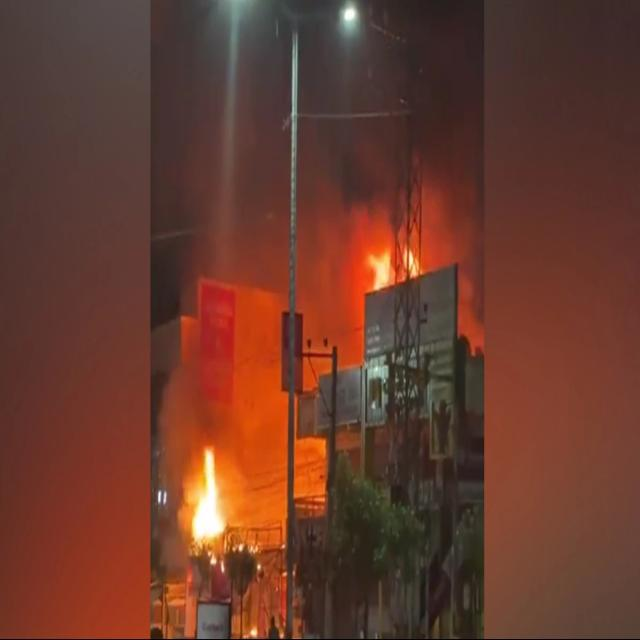fire: (191, 447, 227, 557), (368, 247, 397, 291)
